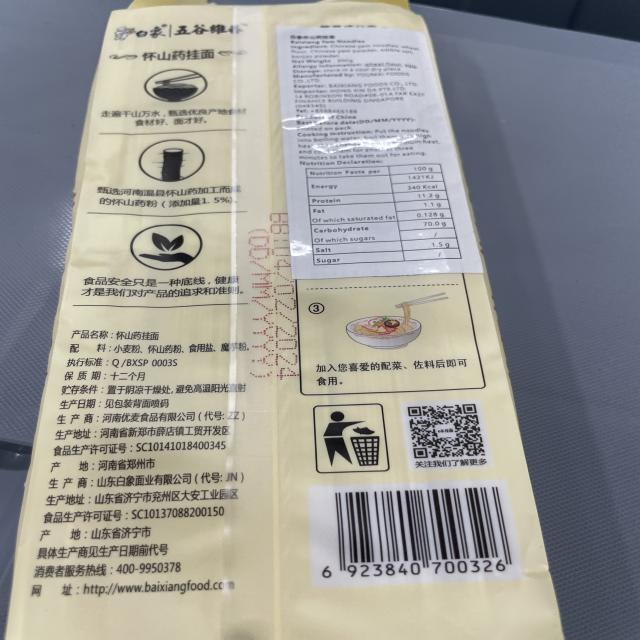object_name: (67, 12, 512, 640)
